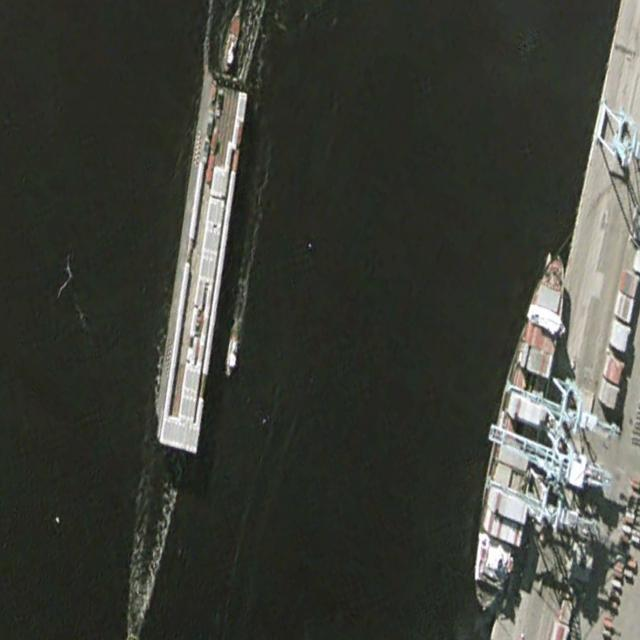Container Ship: (459, 245, 581, 618), (150, 75, 249, 454)
Other Ship: (219, 12, 243, 73), (224, 319, 243, 379)
